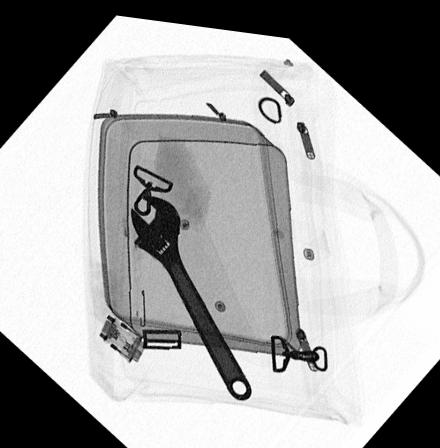Wrench: (130, 185, 256, 396)
